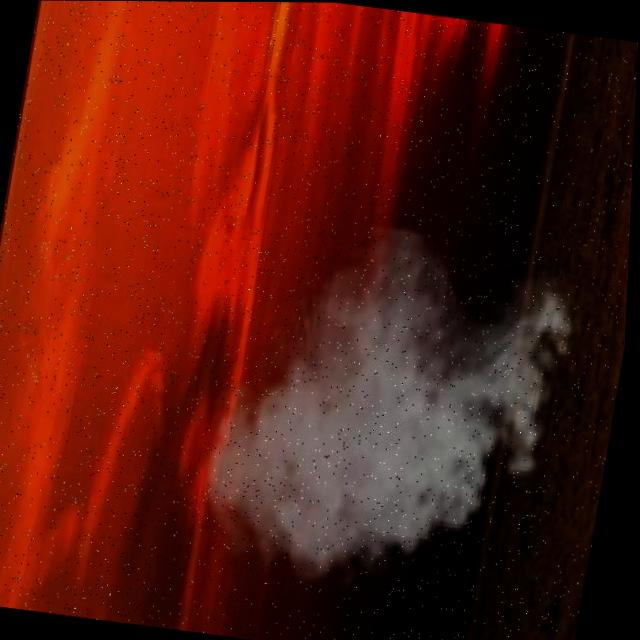no_helmet: (201, 190, 595, 624)
